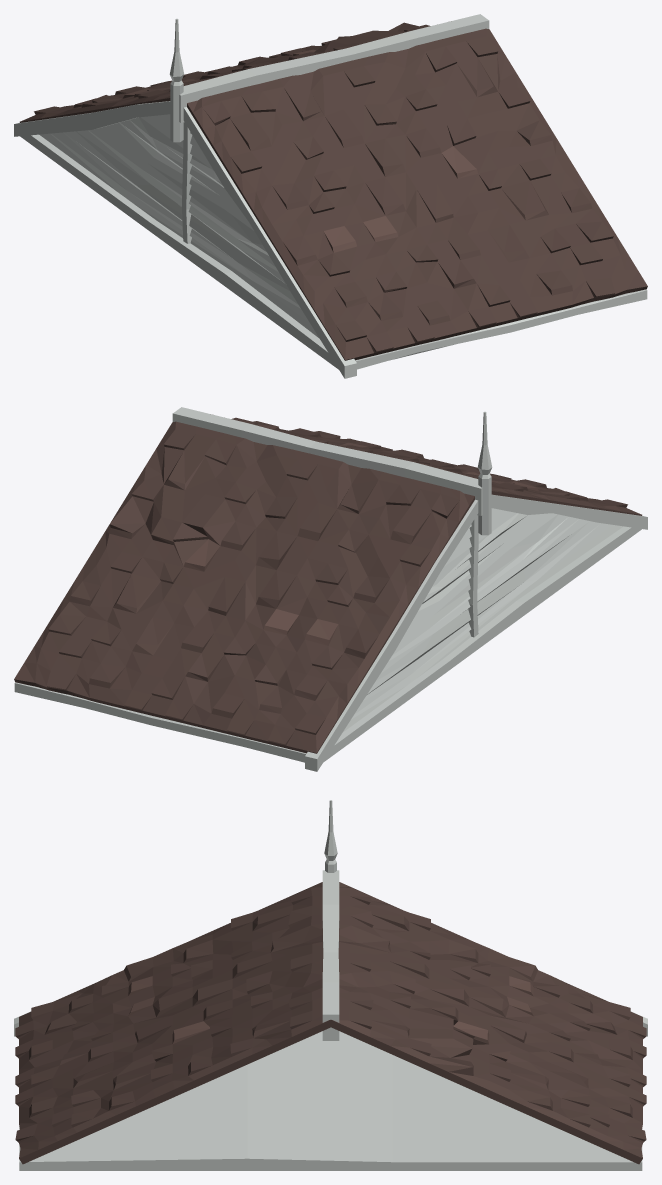
The model's file is SM_Bld_Mansion_Roof_End_01.glb.
3 renders of one model, top to bottom at view 1: azimuth 30°, elevation 25°; view 2: azimuth 150°, elevation 25°; view 3: azimuth 270°, elevation 25°, orthographic. The views are drawn at different scales.
Parts seen in each view (by area): view 1: SM_Bld_Mansion_Roof_End_01_part00; view 2: SM_Bld_Mansion_Roof_End_01_part00; view 3: SM_Bld_Mansion_Roof_End_01_part00.
Boxes of the visible parts, x1=… form: SM_Bld_Mansion_Roof_End_01_part00: x1=14, y1=14, x2=647, y2=378; SM_Bld_Mansion_Roof_End_01_part00: x1=14, y1=407, x2=647, y2=771; SM_Bld_Mansion_Roof_End_01_part00: x1=14, y1=800, x2=647, y2=1170.
Bounding box in the file's own units: 6.32 × 4.6 × 11.54.
Materials: 1 (1 with a texture image).
